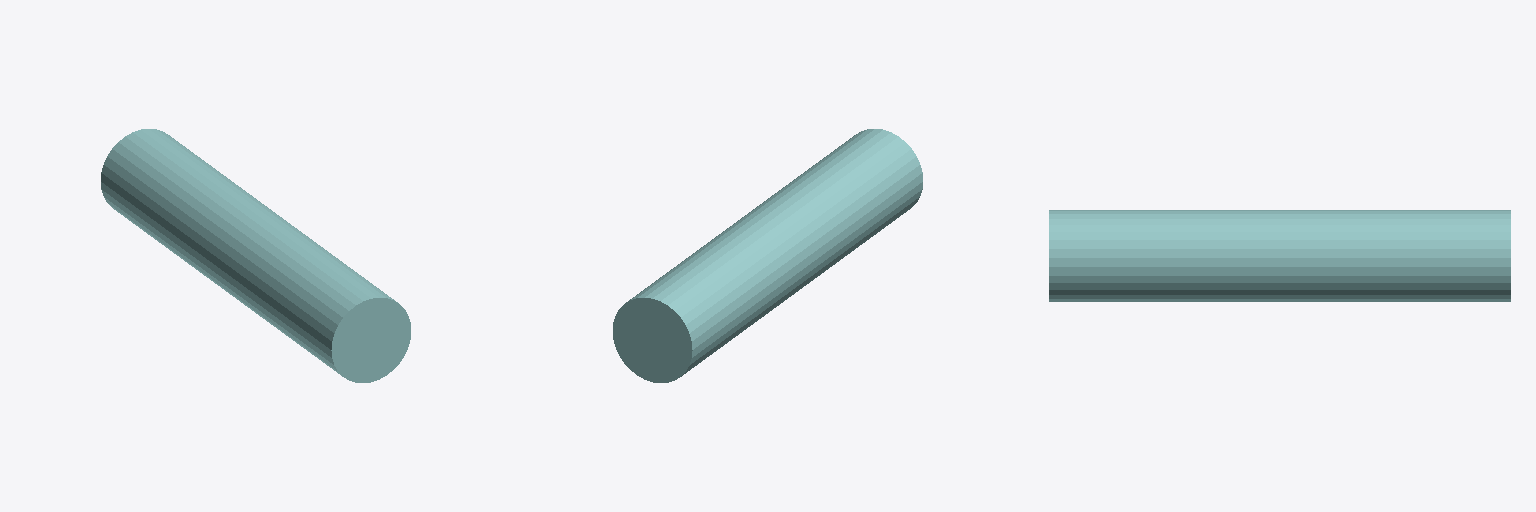
Rendered from TumbleSat0.obj.
3 views of the same model, side by side, from view 1: azimuth 30°, elevation 25°; view 2: azimuth 150°, elevation 25°; view 3: azimuth 270°, elevation 25° (orthographic).
Parts seen in each view (by area): view 1: cylinder1; view 2: cylinder1; view 3: cylinder1.
Part boxes in pixels (left/top/right/bottom): cylinder1: left=101, top=129, right=410, bottom=382; cylinder1: left=613, top=129, right=922, bottom=382; cylinder1: left=1049, top=210, right=1510, bottom=301.
Bounding box in the file's own units: 1 × 1 × 5.